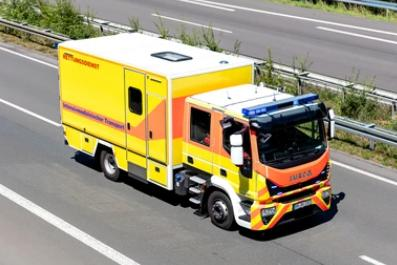vehicle: (58, 32, 335, 230)
